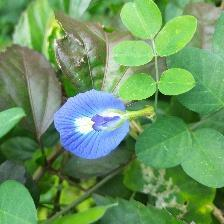shankupushpam: (54, 90, 159, 163)
